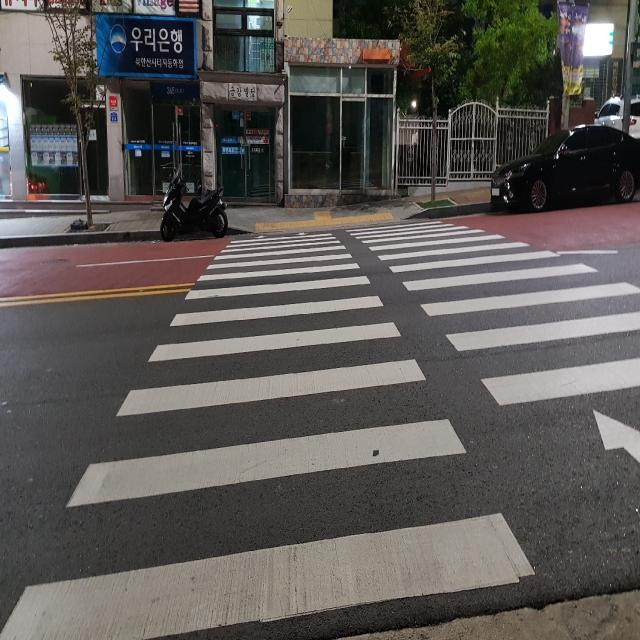횡단보도: (0, 219, 640, 640)
